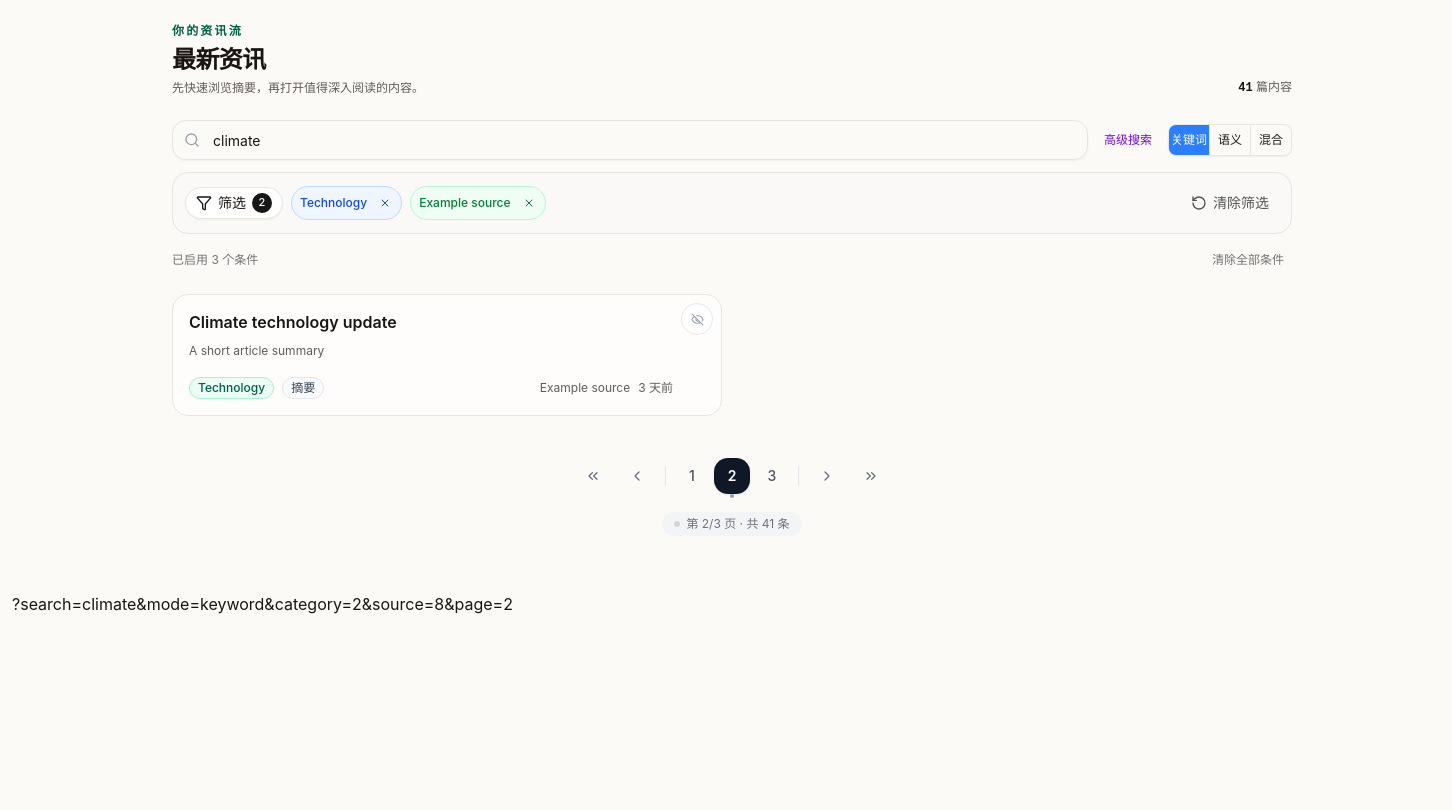
NewsList URL and server state › fetches the URL-selected page and filters, then updates URL and query when a category changes
Expected: the heading "Climate technology update" is shown, 189,312 -> 397,332
Click the button with aria-label "筛选，已选 2 个条件".
click(234, 203)  # box 185,187 -> 283,219
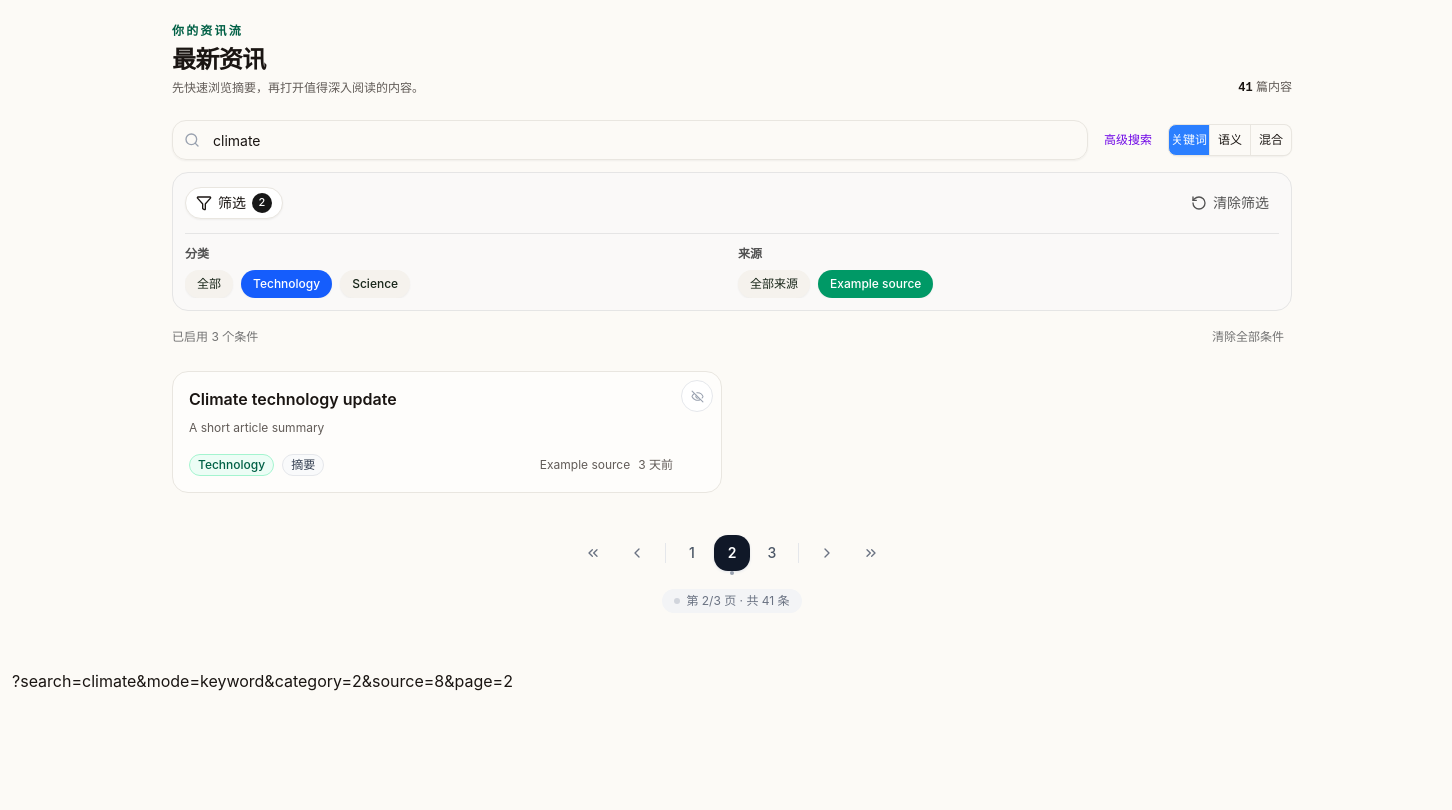
Expected: the element "分类" is shown, 185,246 -> 410,298
Expected: the element "来源" is shown, 738,246 -> 933,298
Click the button "Science".
click(375, 284)  # box 340,270 -> 410,298
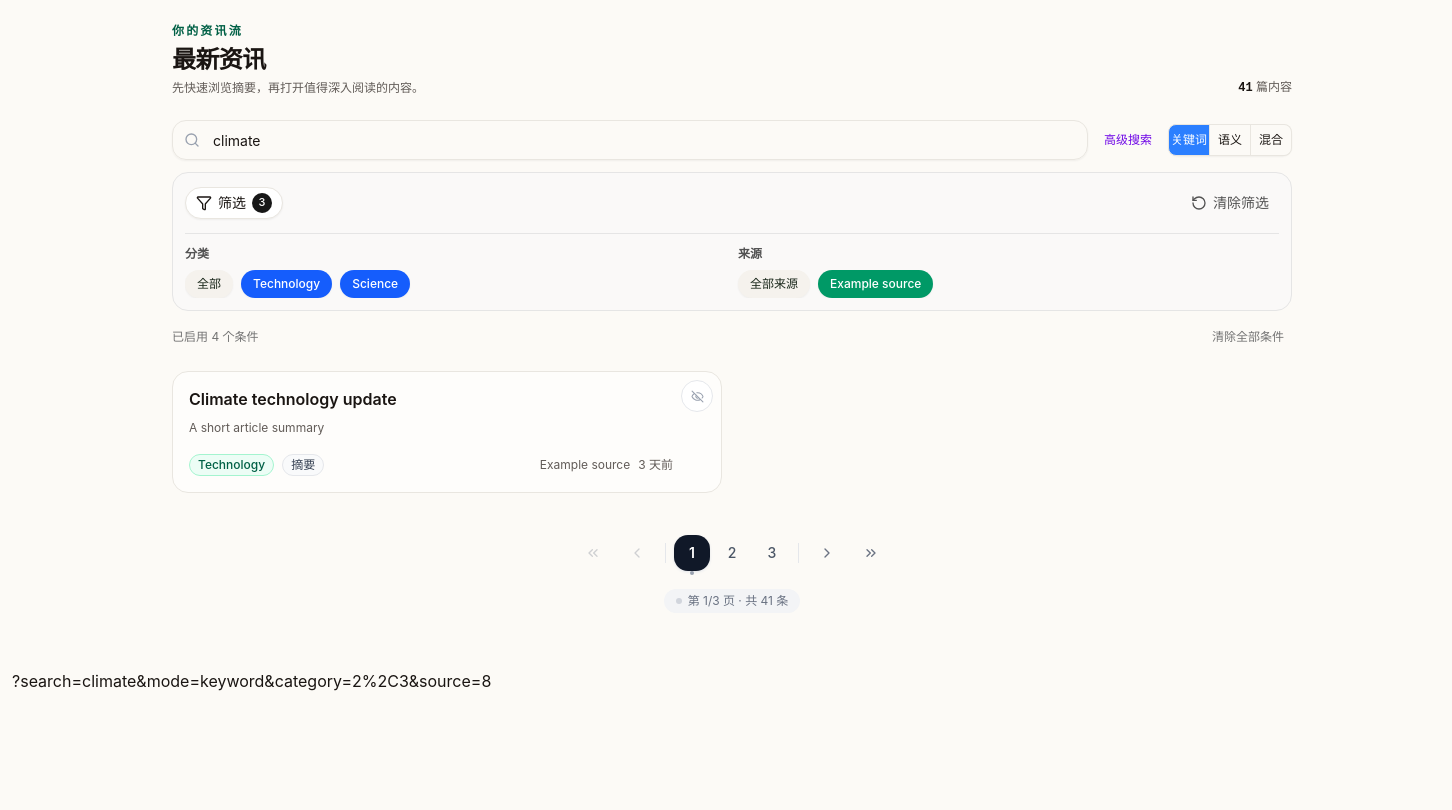
Expected: the text with test id "location-search" shows "search=climate", 12,670 -> 491,690
Expected: the text with test id "location-search" shows "category=2%2C3", 12,670 -> 491,690
Expected: the text with test id "location-search" no longer shows "page=2", 12,670 -> 491,690
